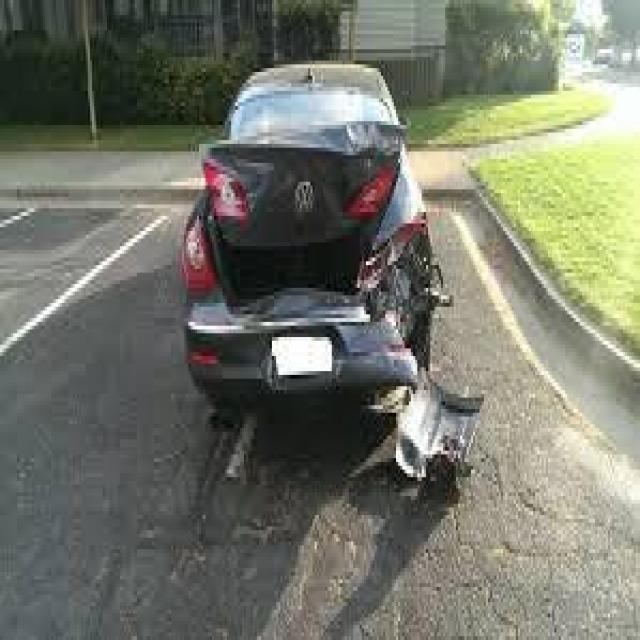damaged: (201, 125, 441, 379)
